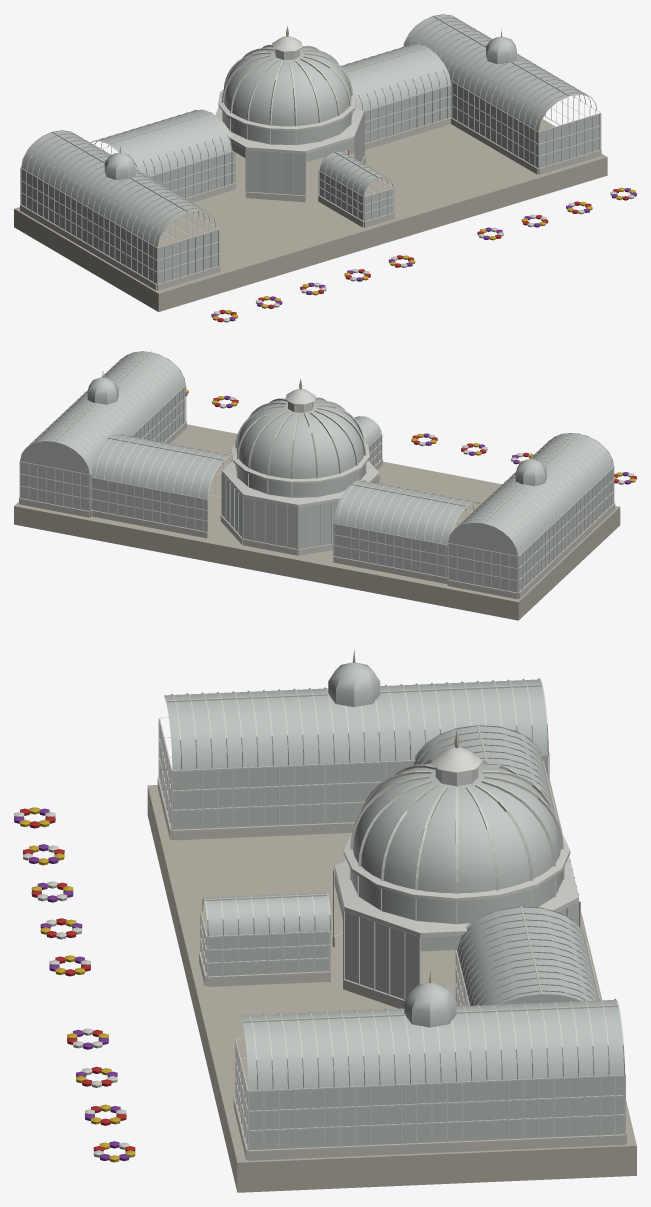
Rendered from conservatory_lod0.glb.
The picture shows the model from 3 angles, top to bottom: view 1: azimuth 30°, elevation 25°; view 2: azimuth 150°, elevation 25°; view 3: azimuth 270°, elevation 25°; orthographic projection. The views are drawn at different scales.
Parts seen in each view (by area): view 1: L0_paint, L0_paving, L0_gold, L0_leaf; view 2: L0_paint, L0_paving, L0_gold, L0_leaf; view 3: L0_paint, L0_paving, L0_leaf, L0_gold.
Part boxes in pixels (bbox=[...]): L0_paint: bbox=[20, 14, 601, 290]; L0_paving: bbox=[14, 119, 607, 311]; L0_gold: bbox=[119, 25, 501, 152]; L0_leaf: bbox=[211, 187, 636, 322]; L0_paint: bbox=[19, 351, 615, 599]; L0_paving: bbox=[14, 424, 620, 620]; L0_gold: bbox=[102, 371, 531, 478]; L0_leaf: bbox=[185, 388, 636, 484]; L0_paint: bbox=[157, 662, 626, 1160]; L0_paving: bbox=[147, 776, 636, 1192]; L0_leaf: bbox=[14, 807, 135, 1162]; L0_gold: bbox=[350, 650, 563, 983].
Bounding box in the file's own units: 79.02 × 24.6 × 52.74.
